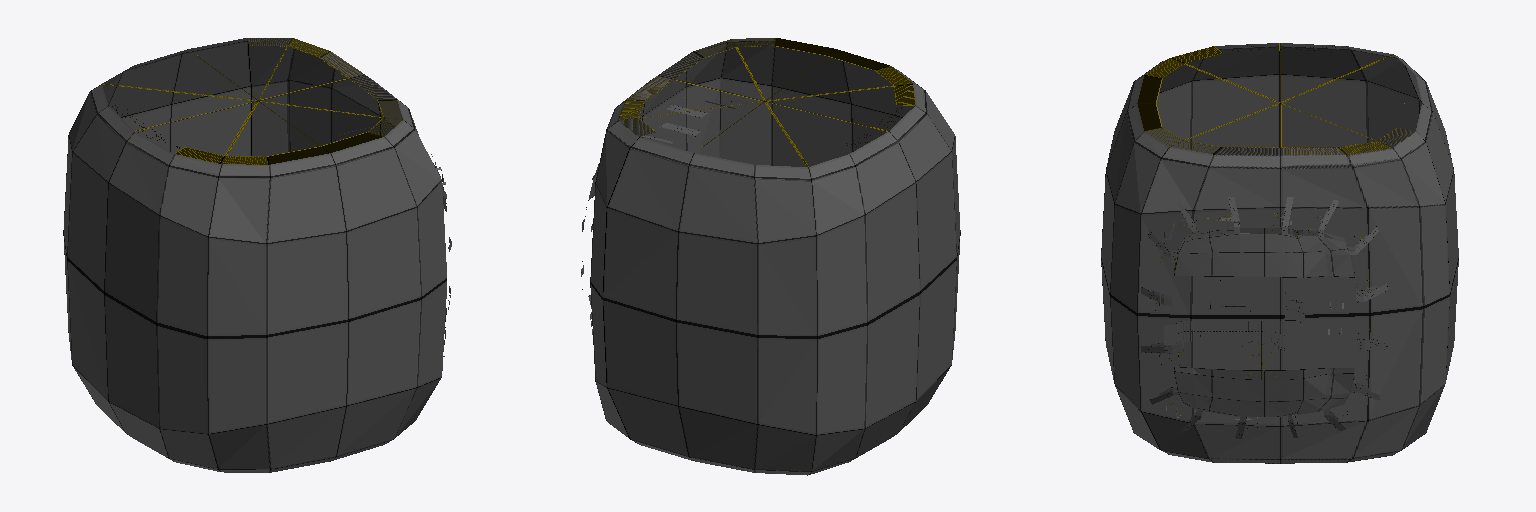
3 views of the same model, side by side, from view 1: azimuth 30°, elevation 25°; view 2: azimuth 150°, elevation 25°; view 3: azimuth 270°, elevation 25° (orthographic).
Visible parts, largest first — view 1: head_geo.001; view 2: head_geo.001, screenEdge_geo.001; view 3: head_geo.001, front_Screen_geo.001, backScreen_mat.001, screenEdge_geo.001, overscan_1_geo.001.
Part boxes in pixels (bbox=[...]): head_geo.001: bbox=[63, 38, 446, 472]; head_geo.001: bbox=[590, 38, 960, 475]; screenEdge_geo.001: bbox=[642, 93, 735, 143]; head_geo.001: bbox=[1101, 43, 1458, 463]; front_Screen_geo.001: bbox=[1141, 197, 1387, 438]; backScreen_mat.001: bbox=[1151, 209, 1377, 427]; screenEdge_geo.001: bbox=[1164, 218, 1304, 419]; overscan_1_geo.001: bbox=[1184, 321, 1284, 379].
Size of the model in its own units: 4.02 by 3.89 by 4.1.
7 materials, 1 textured.